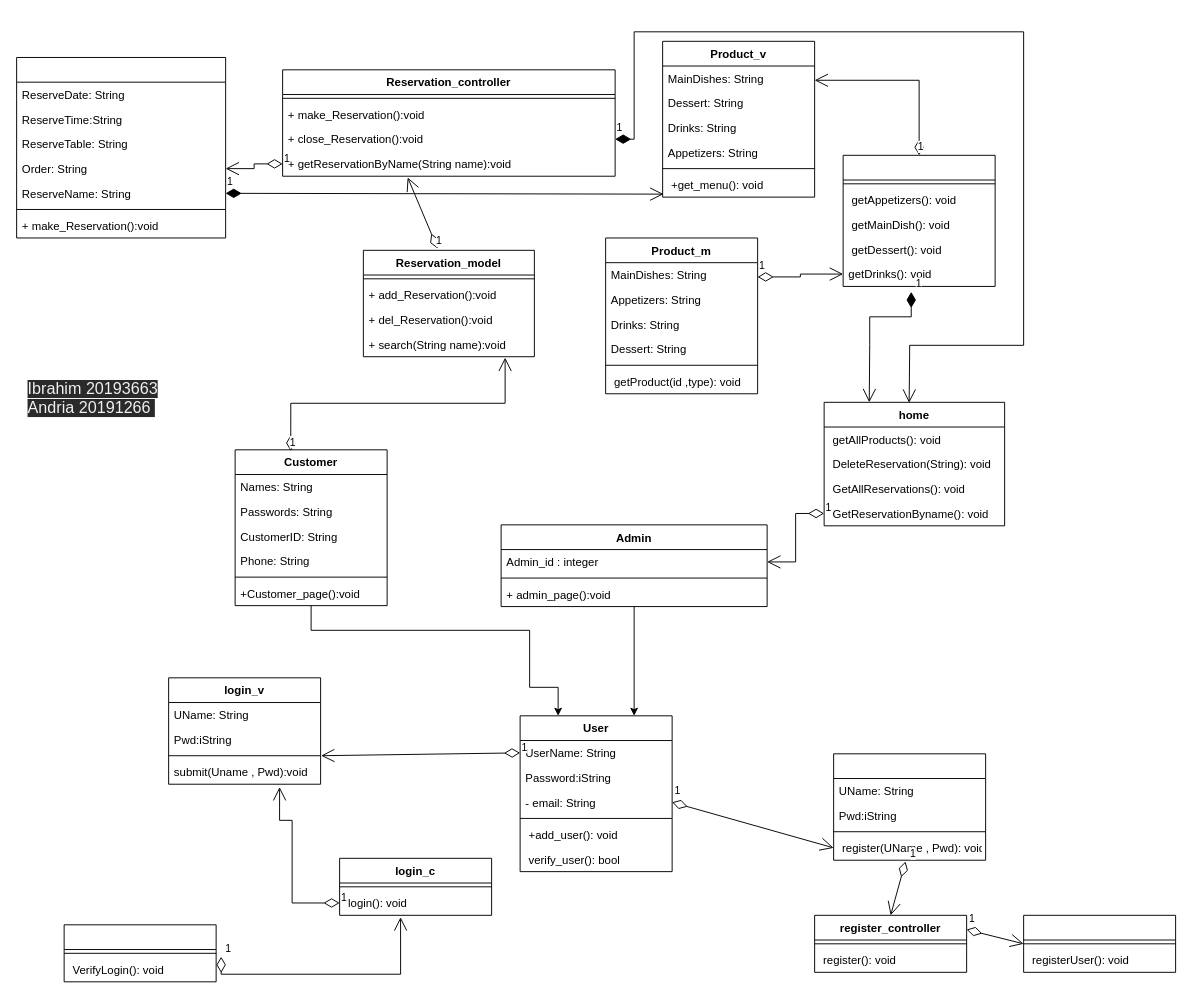
The diagram is 1192 pixels wide and 1007 high, and some of its shapes have lost their labels. The box of each missing label's shape, as (x1, y1, x2, y2) in pixels:
login_m: (63, 924, 216, 982)
Product_c: (842, 154, 995, 286)
register_model: (1023, 914, 1176, 972)
register_view: (833, 753, 986, 860)
Reservation_view: (16, 57, 226, 238)
